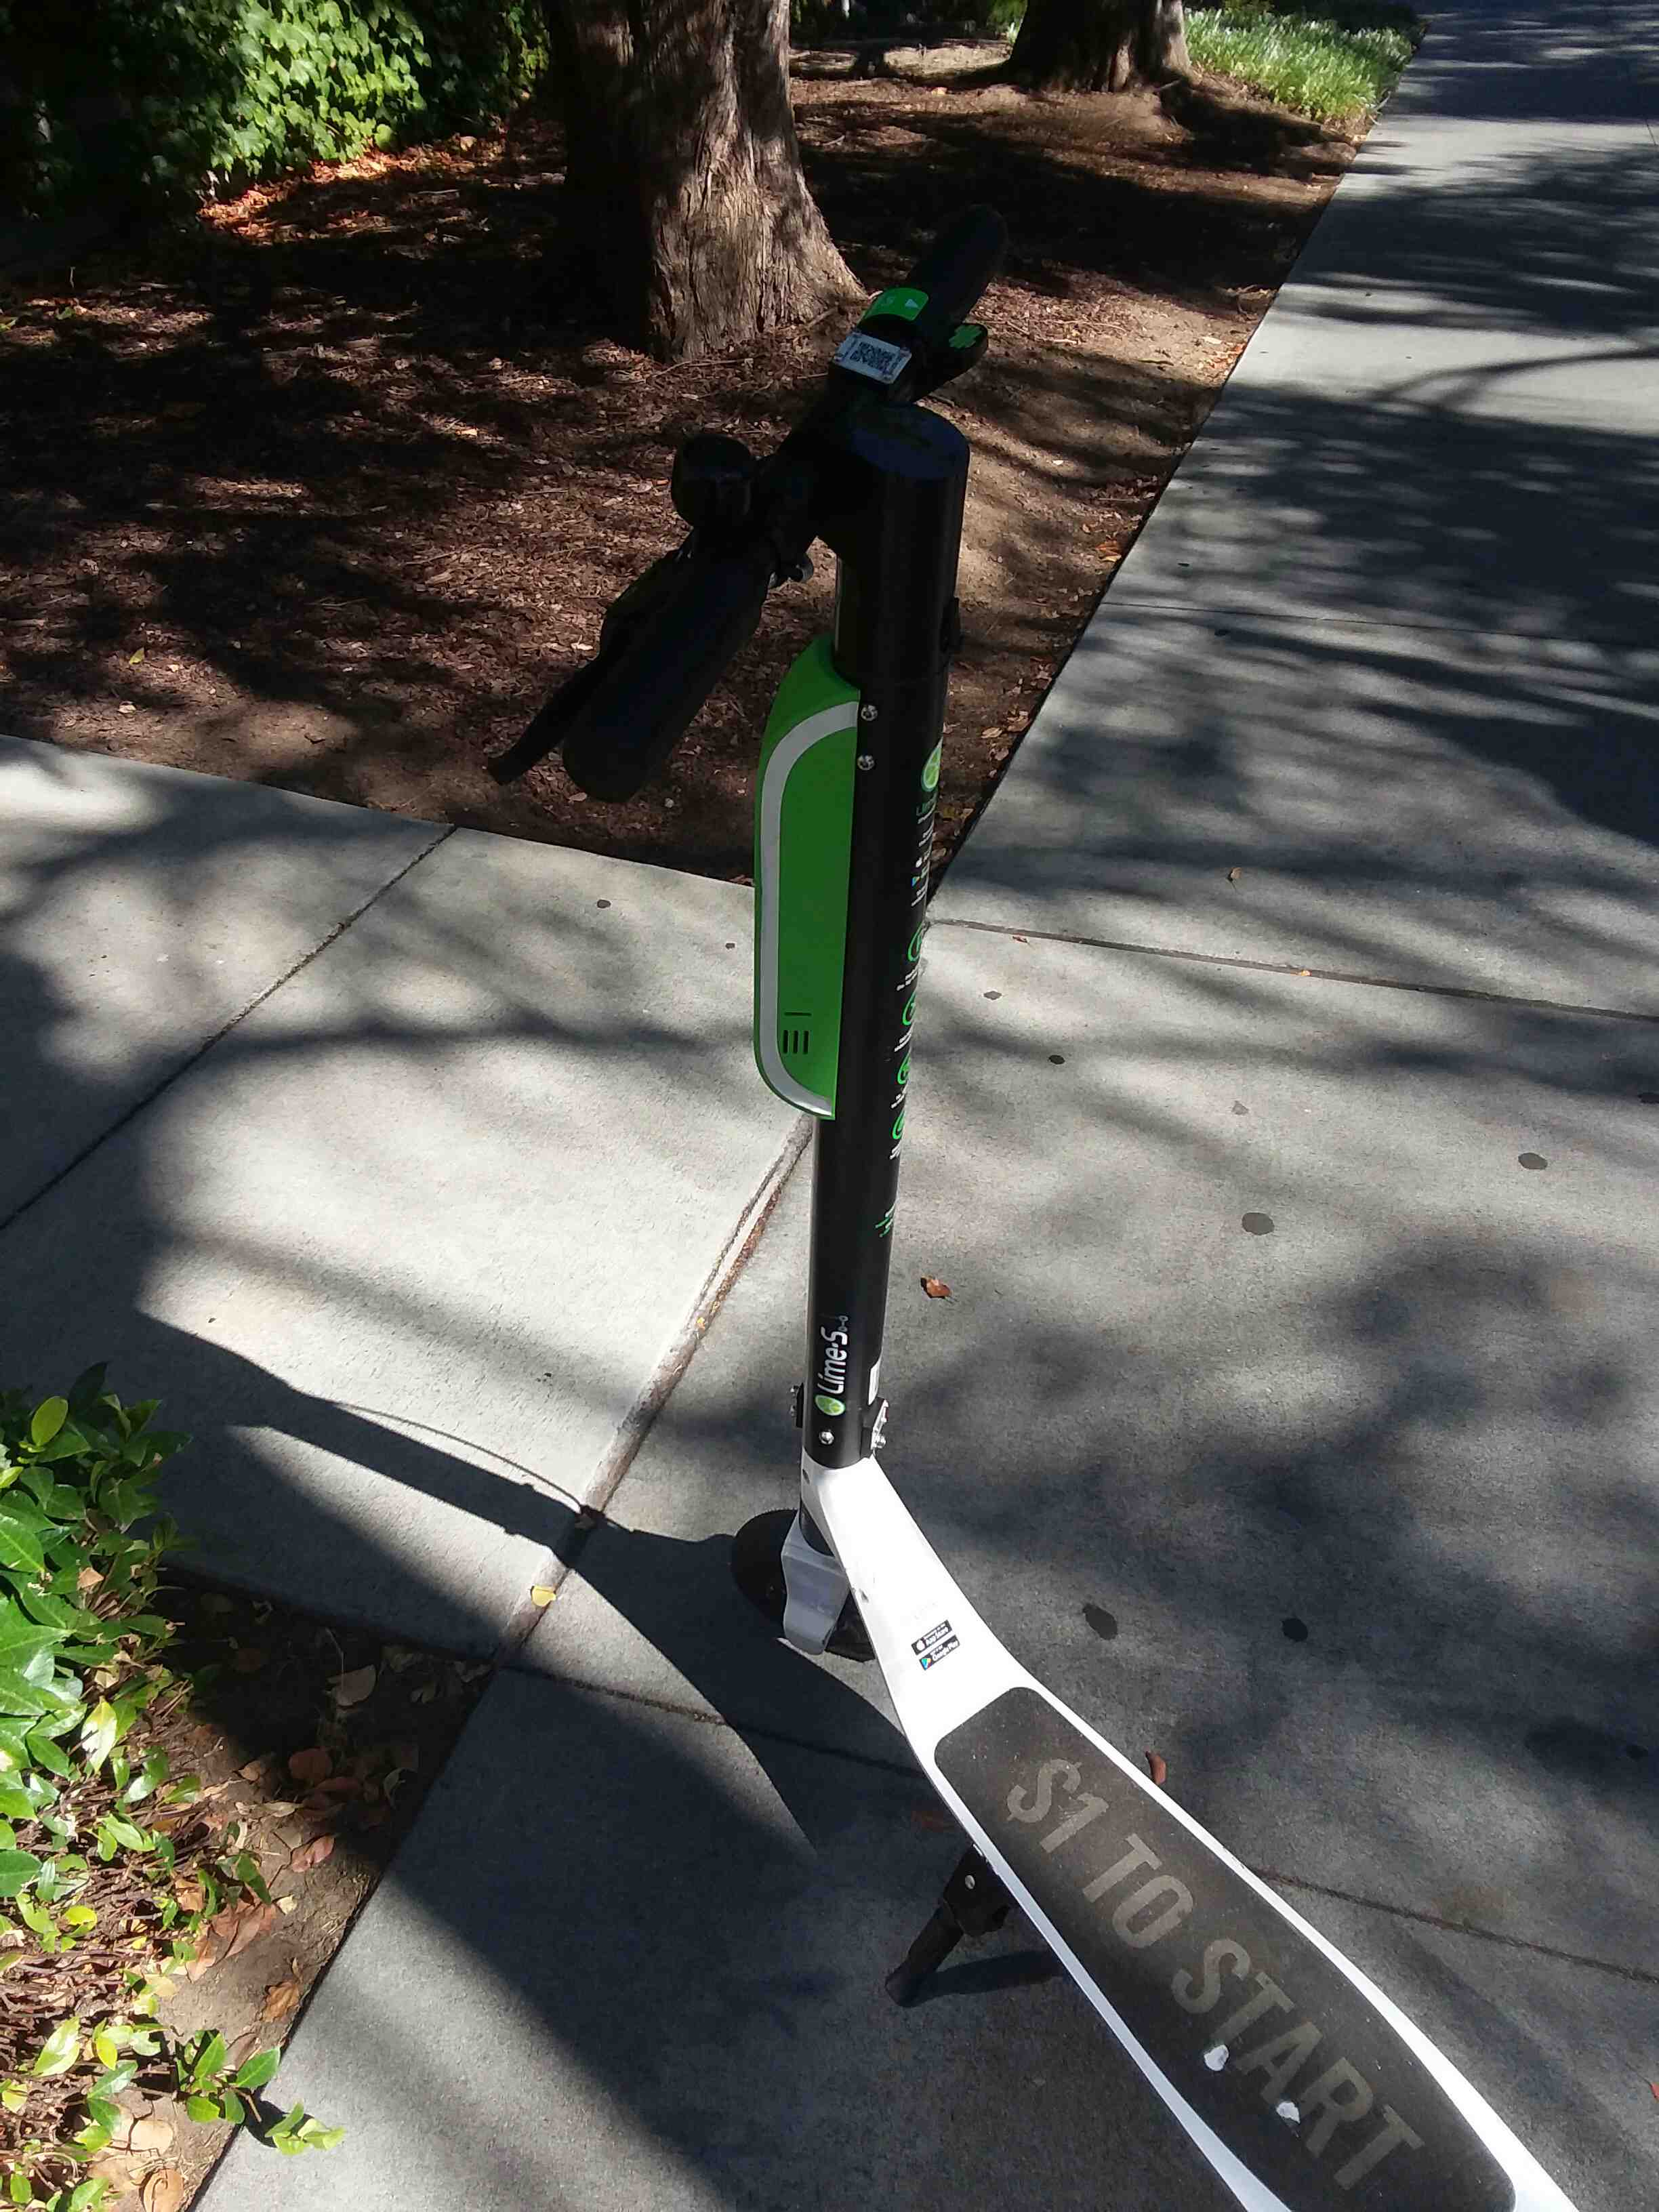scooter: (457, 145, 1605, 2212)
